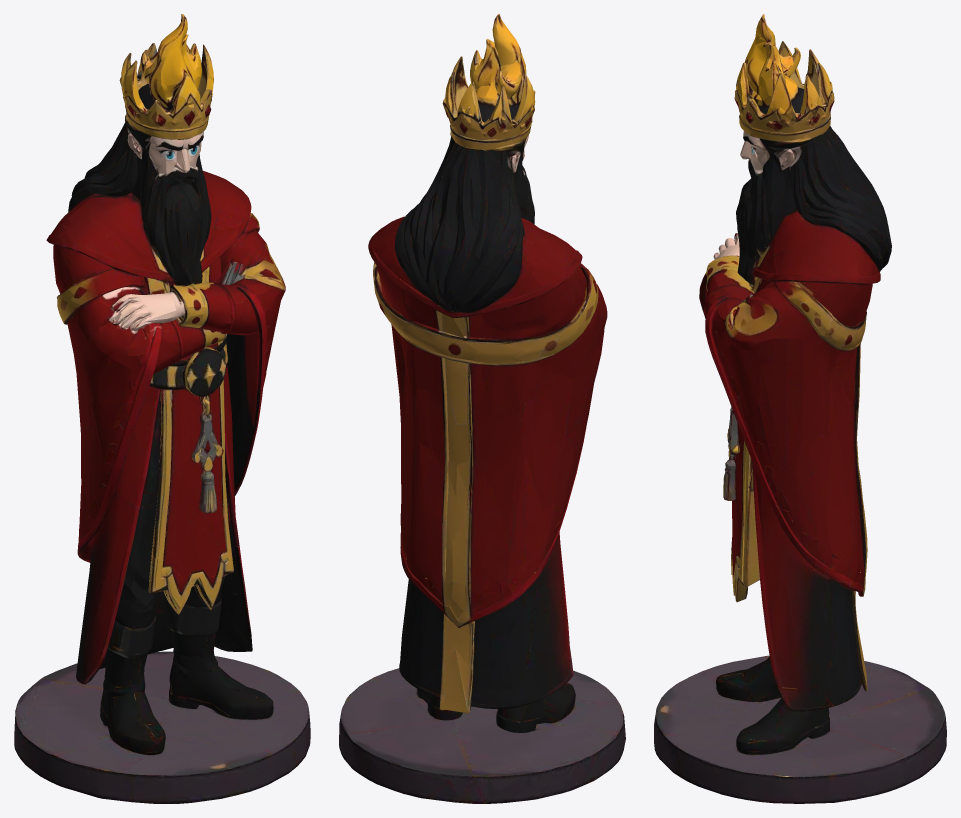
File: ozai2.glb
3 renders of one model, left to right at view 1: azimuth 30°, elevation 25°; view 2: azimuth 150°, elevation 25°; view 3: azimuth 270°, elevation 25°, orthographic. The views are drawn at different scales.
Bounding box in the file's own units: 0.6914 × 1.9 × 0.692.
Materials: 1 (1 with a texture image).
